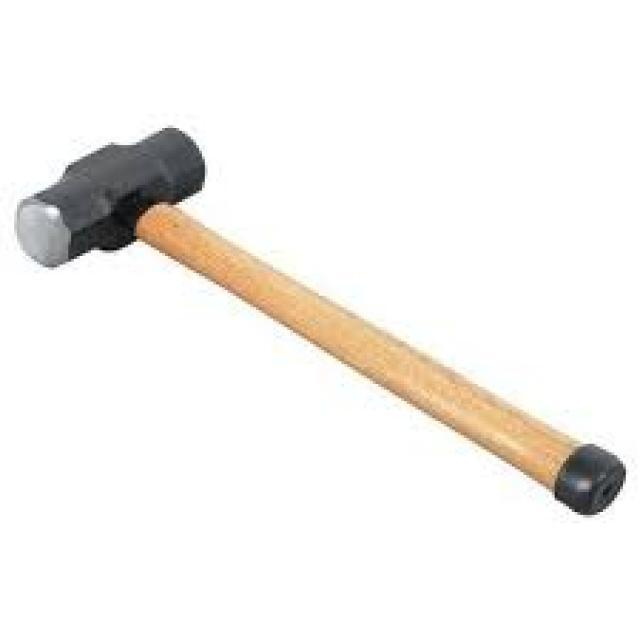hammer: (7, 120, 639, 533)
